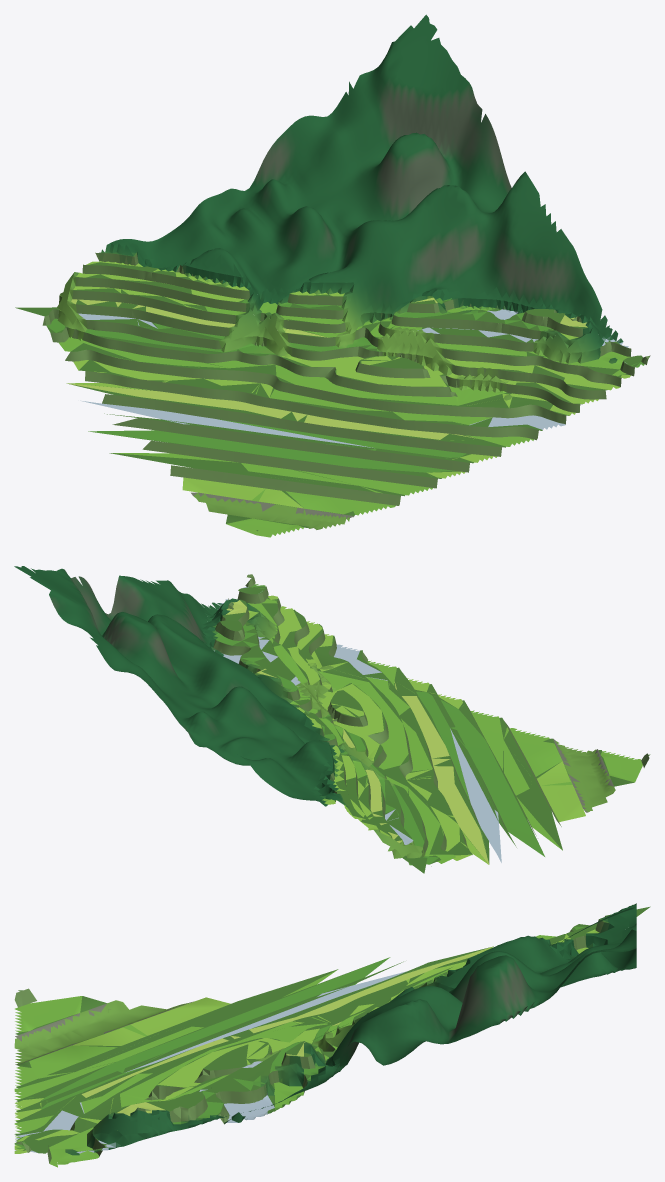
File: payo_land_xm2_y4.glb
The picture shows the model from 3 angles, top to bottom: view 1: azimuth 30°, elevation 25°; view 2: azimuth 150°, elevation 25°; view 3: azimuth 270°, elevation 25°; orthographic projection. The views are drawn at different scales.
Parts seen in each view (by area): view 1: payo_land_xm2_y4; view 2: payo_land_xm2_y4; view 3: payo_land_xm2_y4.
Part boxes in pixels (box(x1,y1,x2,y2)): payo_land_xm2_y4: box(15, 14, 650, 537); payo_land_xm2_y4: box(14, 566, 650, 873); payo_land_xm2_y4: box(14, 903, 650, 1167).
Bounding box in the file's own units: 282 × 166 × 264.
